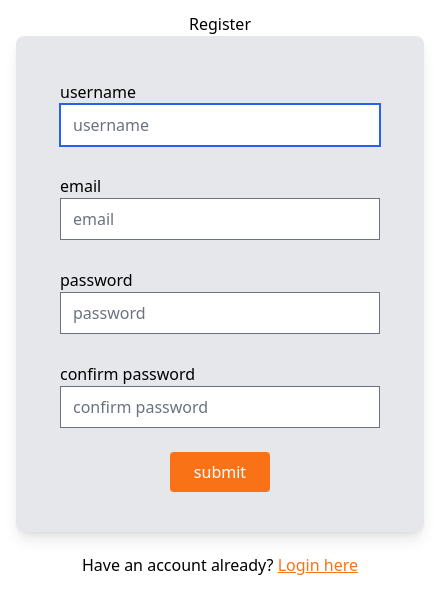
Test case: Maple is able to signup › tries to signup when username is not entered
expect the button is shown: met, box [170,452,270,492]
Type "Maple@gmail.com" into the field labelled "email" at (220, 219), box [60,198,380,240]
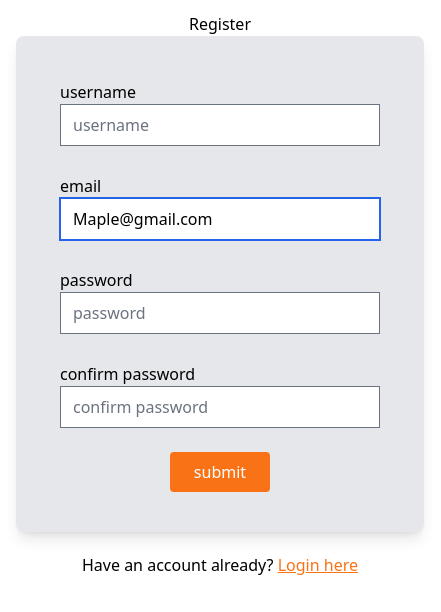
Type "Maple" into the password field labelled "password" at (220, 313), box [60,292,380,334]
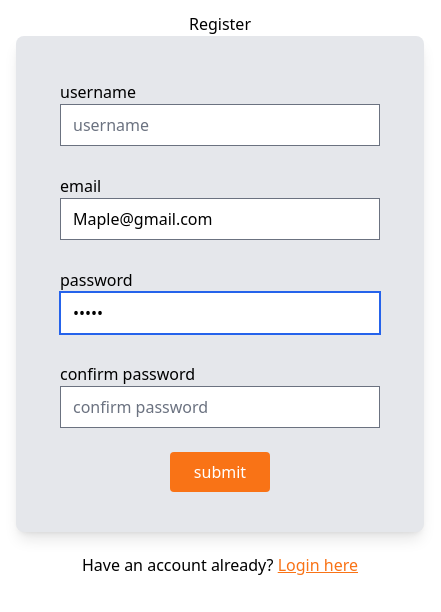
Type "Maple" into the password field labelled "confirm password" at (220, 407), box [60,386,380,428]
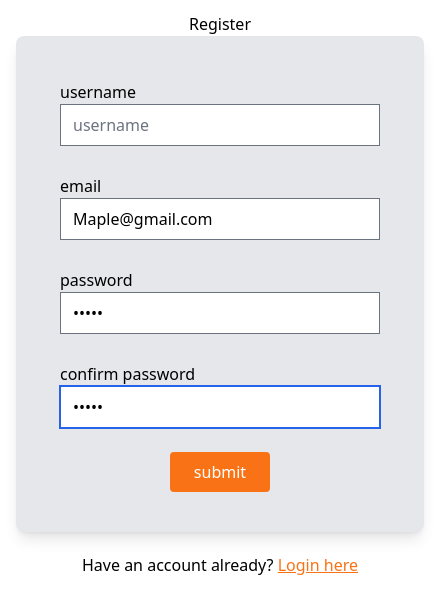
Click the button at (220, 472), box [170,452,270,492]
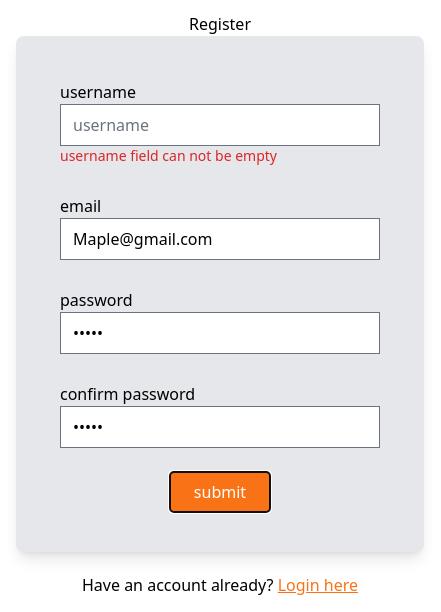
expect the text "username field can not be empty" is shown: met, box [60,146,277,165]
